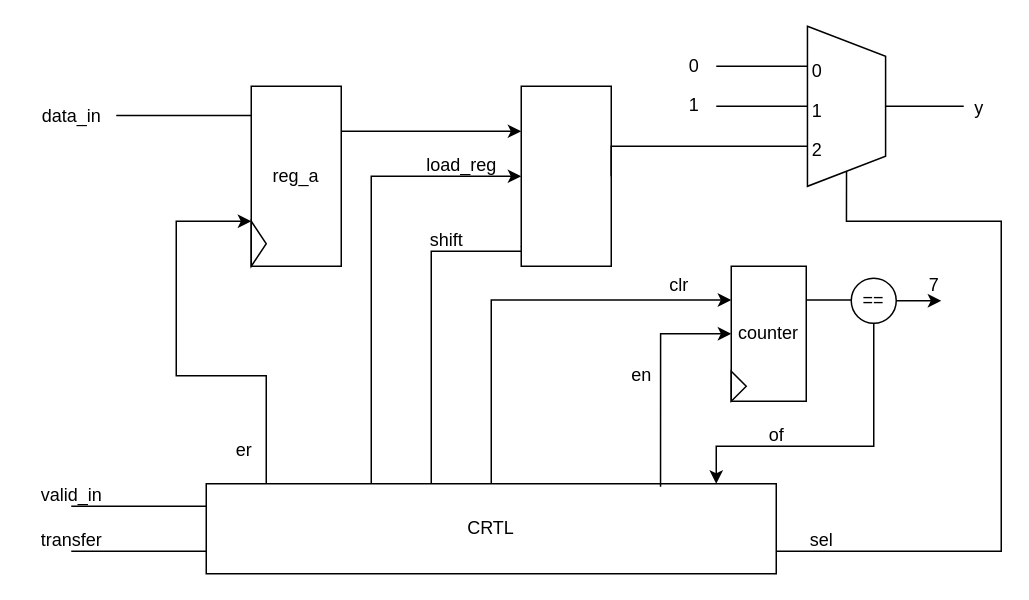
Some shapes in this 1029 by 600 pixel diagram are drawn without their labels. The box of each missing label's shape, as (x1, y1, x2, y2) in pixels:
MUX: (806, 25, 886, 186)
shift_reg >>1: (520, 85, 611, 266)
